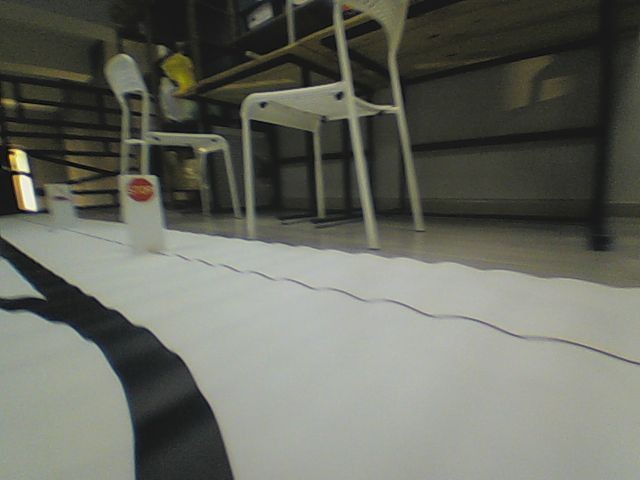Stop: (126, 176, 154, 202)
